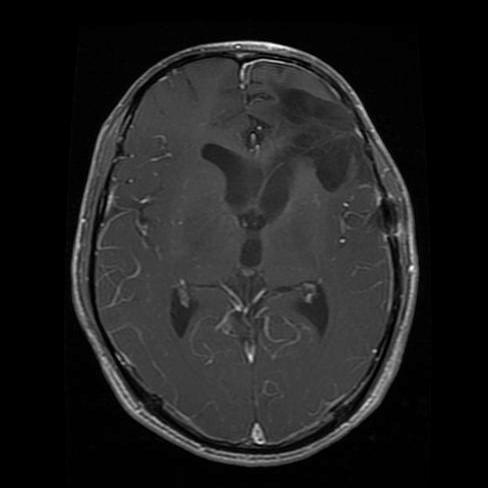Tumour-Glioma: (276, 92, 357, 186)
